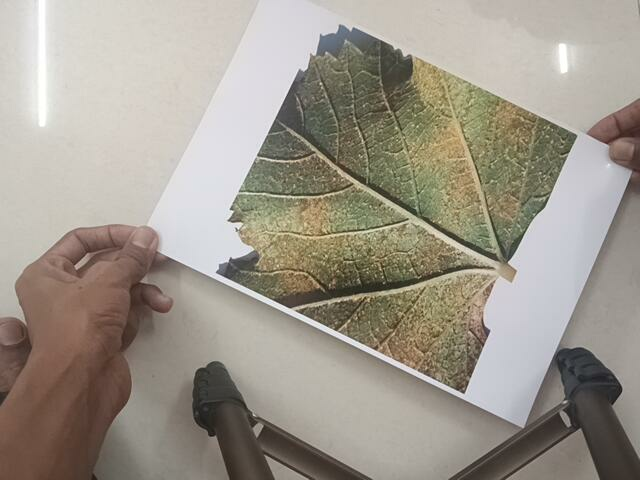Grape_Rust_Fungus: (226, 27, 576, 387)
